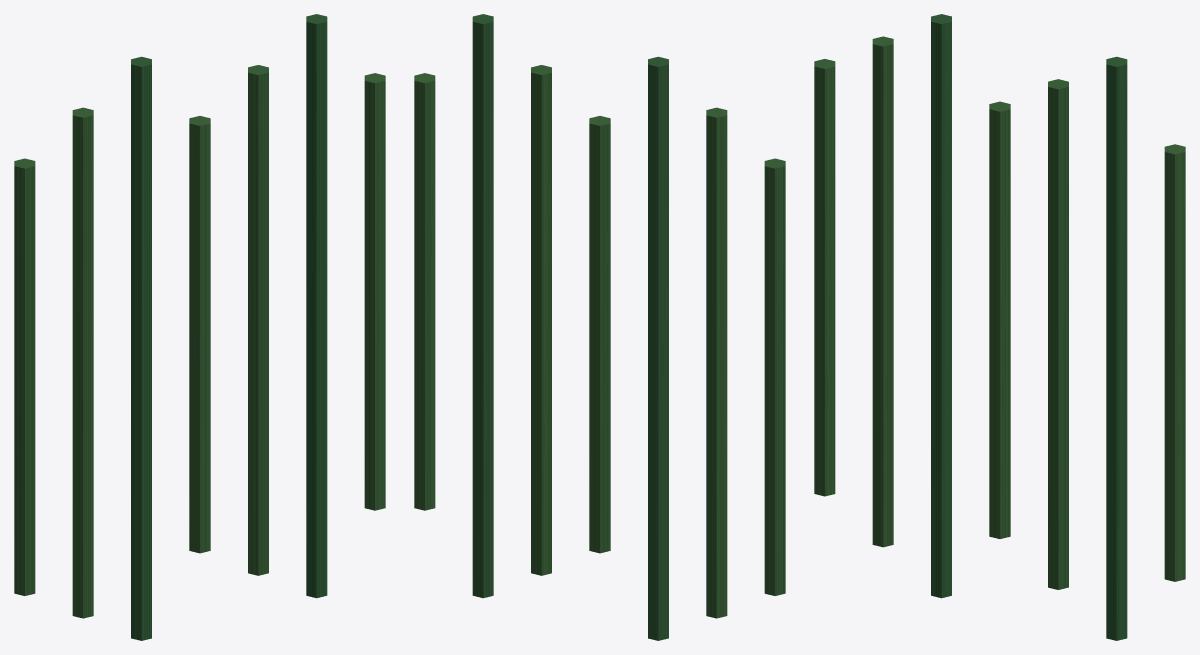
File: tule.obj
The picture shows the model from 3 angles, left to right: view 1: azimuth 30°, elevation 25°; view 2: azimuth 150°, elevation 25°; view 3: azimuth 330°, elevation 25°; orthographic projection.
Parts seen in each view (by area): view 1: tule; view 2: tule; view 3: tule.
Boxes of the visible parts, bbox=[...] form: tule: bbox=[14, 14, 385, 640]; tule: bbox=[414, 14, 785, 640]; tule: bbox=[814, 14, 1185, 640].
Bounding box in the file's own units: 0.636 × 0.94 × 0.0312.
1 material, 1 textured.
